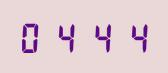four: (51, 20, 83, 53), (84, 20, 116, 53), (117, 20, 149, 53)
zero: (18, 20, 50, 53)
